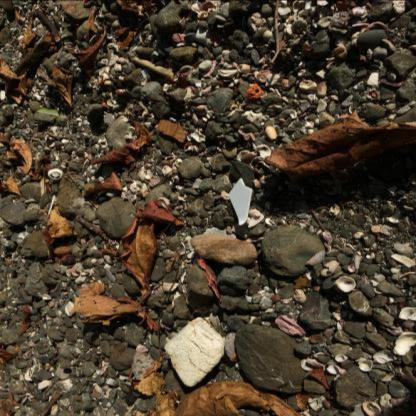Other plastic: (229, 178, 253, 225), (48, 192, 57, 215), (48, 168, 64, 179)
Styrofoam piece: (164, 316, 226, 387)
